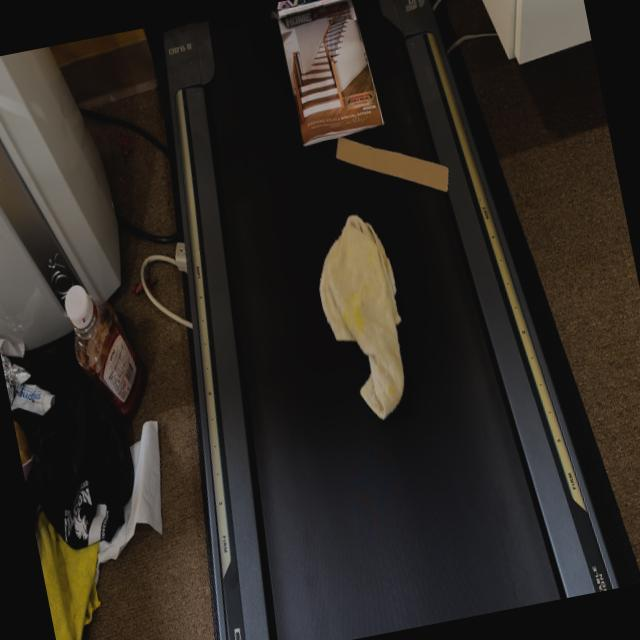Recycle: (273, 0, 386, 144), (325, 122, 454, 213)
Trash: (304, 206, 426, 445)
